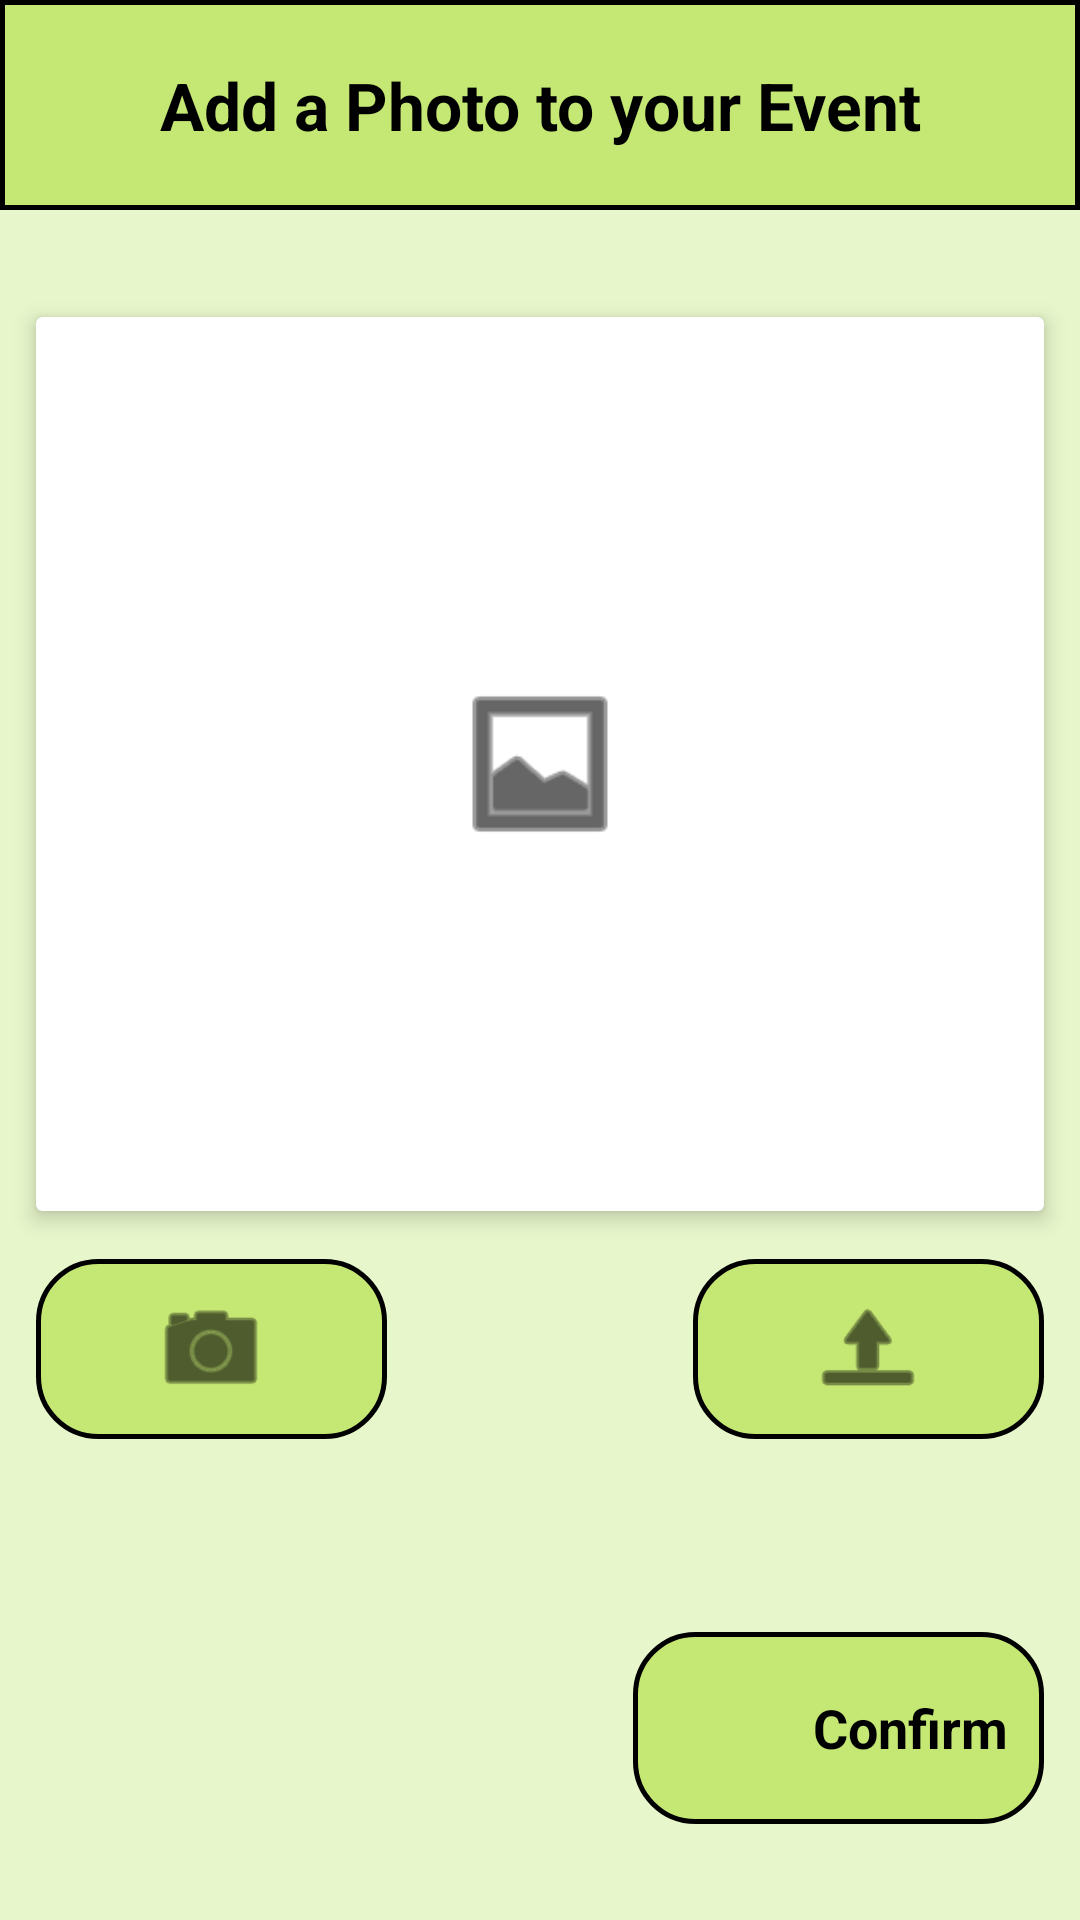

Icon bounding boxes for this 1080 x 1920 phone screenshot, format (x1, y1, x2, y2):
Change or upload a photo: (822, 1309, 914, 1386)
